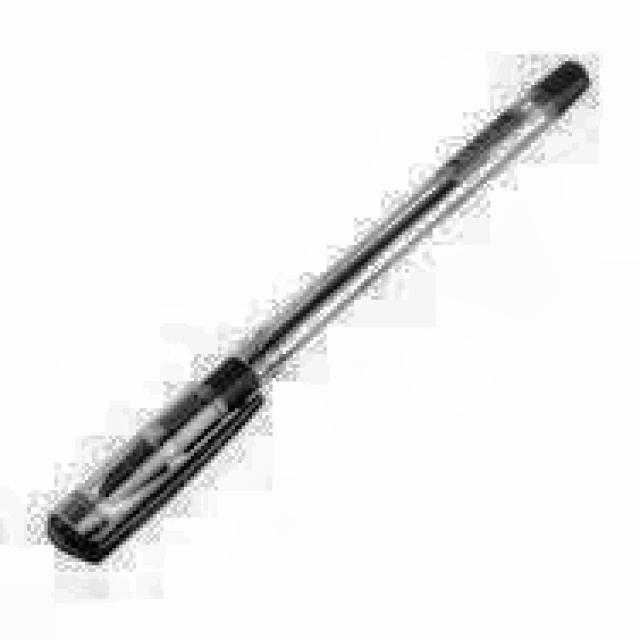Pen: (44, 51, 599, 572)
